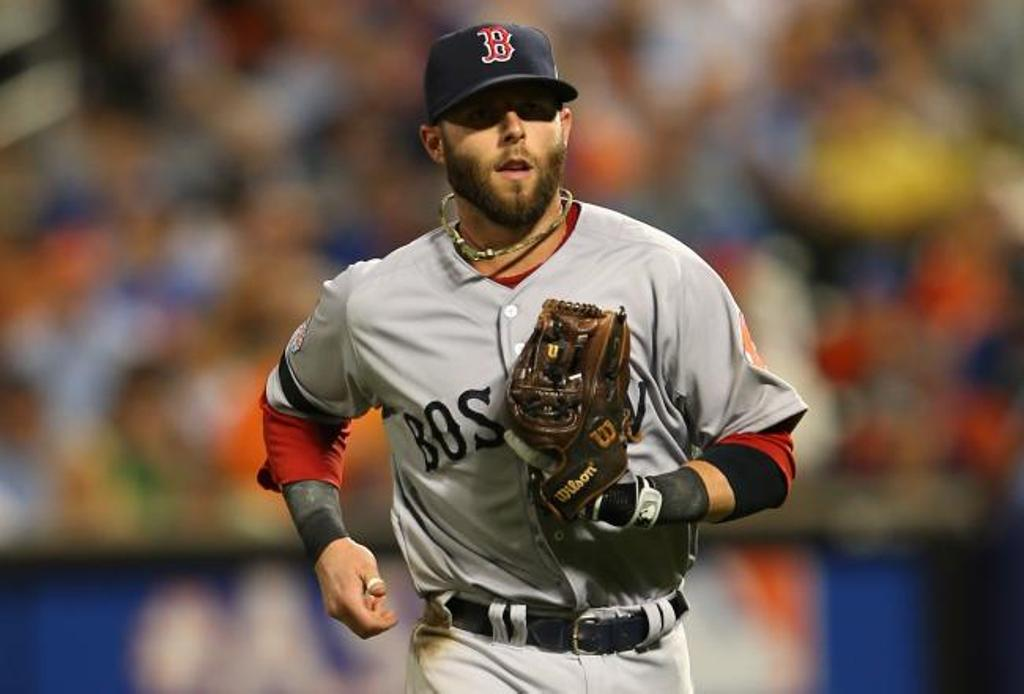face: (444, 86, 560, 222)
